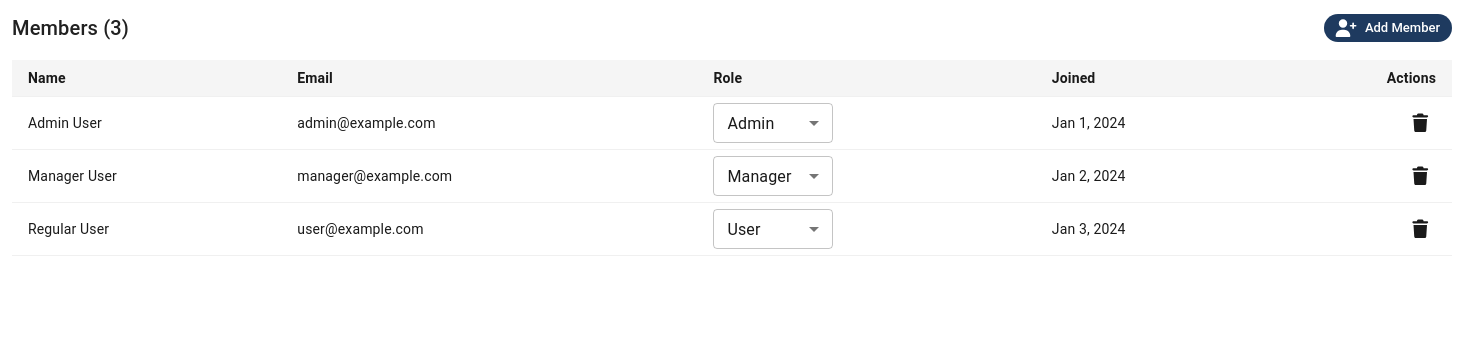
Scenario: OrgMembersTable › Role Management › shows generic error when role change fails without message
Click the dropdown labelled "Admin" at (751, 123), box [727, 114, 774, 132]
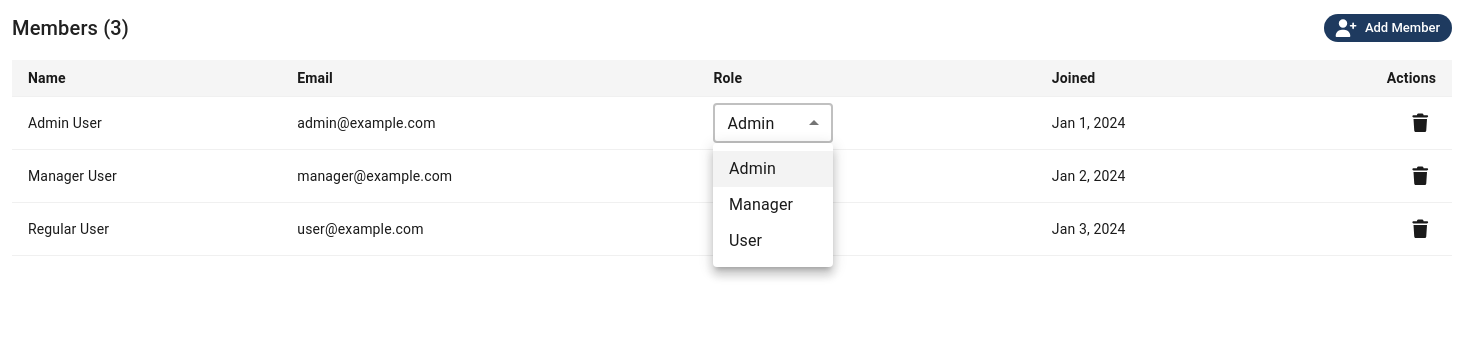
Click the option "Manager" at (761, 204), box [729, 195, 793, 214]
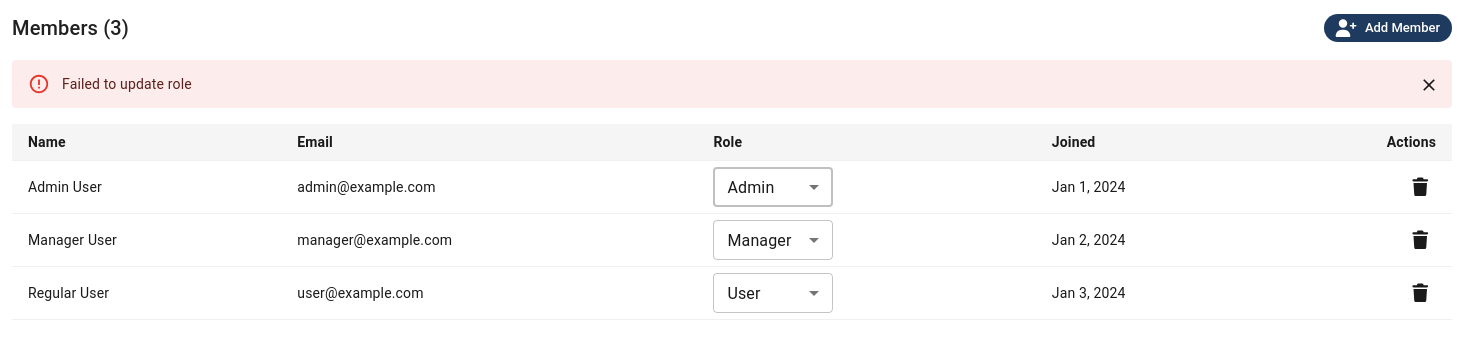
Now the text "Failed to update role" is shown, box [62, 76, 192, 92]
